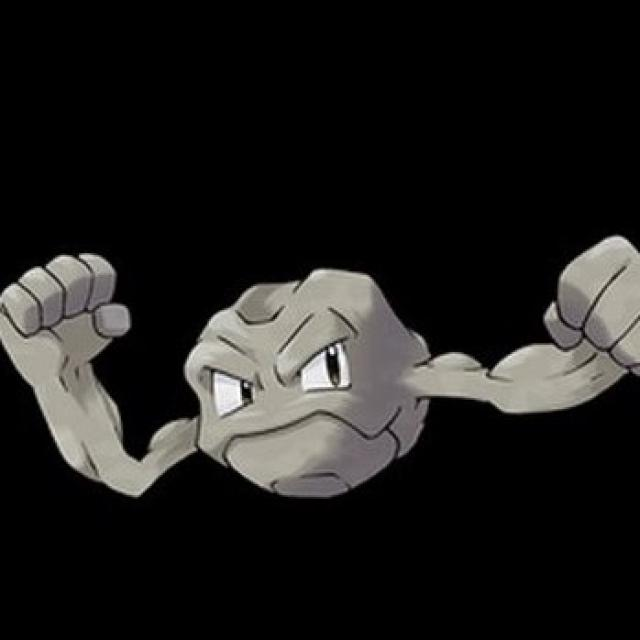Geodude: (2, 233, 640, 502)
